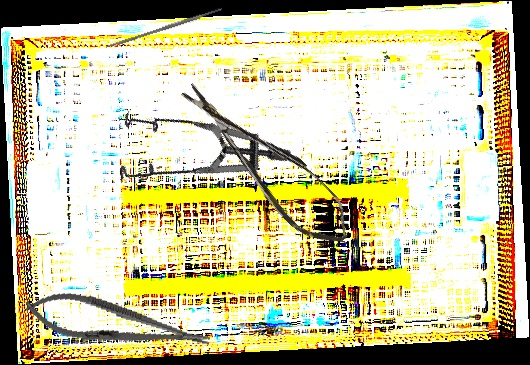Micro Scissor: (172, 65, 362, 260)
Needle Holder: (21, 283, 214, 365)
Scalpel Handle: (105, 7, 223, 50)
Speculum: (92, 60, 294, 254)
